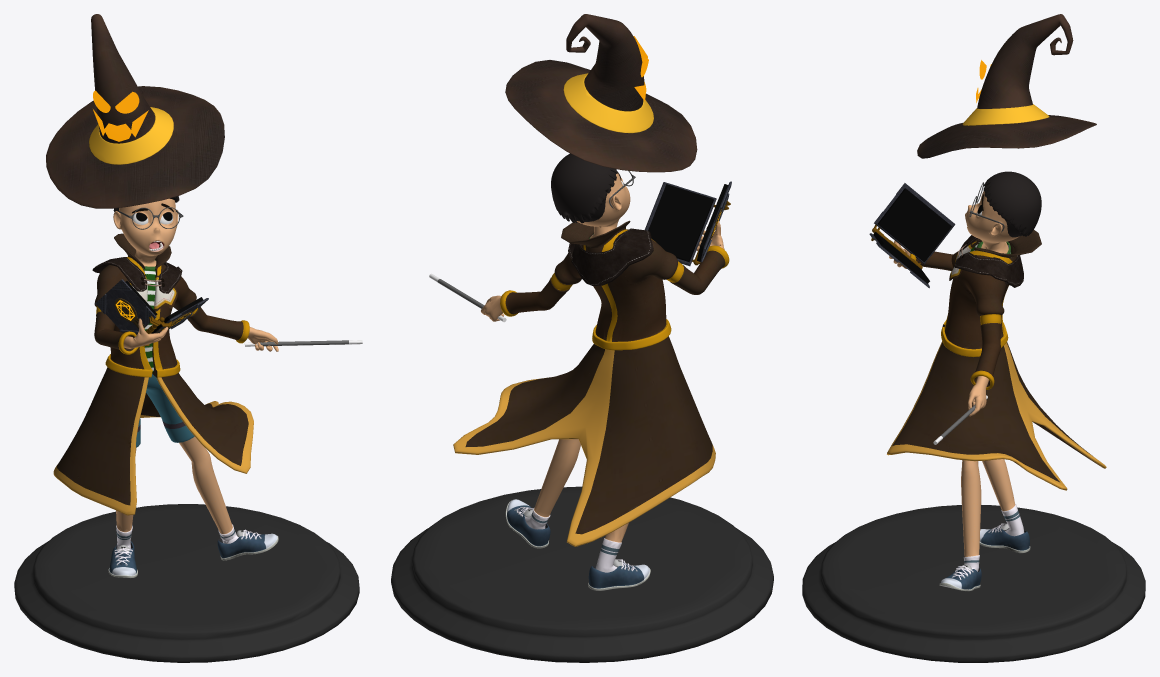
The model's file is wizard-transformed.glb.
The picture shows the model from 3 angles, left to right: view 1: azimuth 30°, elevation 25°; view 2: azimuth 150°, elevation 25°; view 3: azimuth 270°, elevation 25°; orthographic projection. The views are drawn at different scales.
Visible parts, largest first — view 1: WandpCylinder1_Wandq_0, Evil_Hathattty_mesh_Evil_HatBLN_Hat_0, lower_coat_mesh_FK_BLN_Lower_coat_0, Upper_coat_mesh_BLN_upper_coat_0, R_shoe_mesh_BLN_shoes_0, Evil_HatpPlane1_Evil_HatsolidShader_0, Chest_piece_mesh_BLN_chest_piece_0, pants_mesh_BLN_Pants_0, BookpolySurface2_BookBLN_Book_covers_0, BookBook_corner_mesh4_Booklam_book_corners_0, Coat_collar_mesh_BLN_collar_piece_0, upper_body_mesh_BLN_shirt_0; view 2: WandpCylinder1_Wandq_0, lower_coat_mesh_FK_BLN_Lower_coat_0, Evil_Hathattty_mesh_Evil_HatBLN_Hat_0, Upper_coat_mesh_BLN_upper_coat_0, BookpolySurface5_Bookblinn1_0, Chest_piece_mesh_BLN_chest_piece_0, R_shoe_mesh_BLN_shoes_0, Coat_collar_mesh_BLN_collar_piece_0, BookpolySurface2_BookBLN_Book_covers_0; view 3: WandpCylinder1_Wandq_0, lower_coat_mesh_FK_BLN_Lower_coat_0, Evil_Hathattty_mesh_Evil_HatBLN_Hat_0, Upper_coat_mesh_BLN_upper_coat_0, BookpolySurface5_Bookblinn1_0, R_shoe_mesh_BLN_shoes_0, Chest_piece_mesh_BLN_chest_piece_0, BookpolySurface2_BookBLN_Book_covers_0, Coat_collar_mesh_BLN_collar_piece_0.
Boxes of the visible parts, left/top/right/bottom form: WandpCylinder1_Wandq_0: left=14, top=196, right=362, bottom=662; Evil_Hathattty_mesh_Evil_HatBLN_Hat_0: left=46, top=14, right=224, bottom=208; lower_coat_mesh_FK_BLN_Lower_coat_0: left=53, top=367, right=253, bottom=515; Upper_coat_mesh_BLN_upper_coat_0: left=94, top=257, right=249, bottom=377; R_shoe_mesh_BLN_shoes_0: left=108, top=532, right=278, bottom=578; Evil_HatpPlane1_Evil_HatsolidShader_0: left=93, top=90, right=148, bottom=141; Chest_piece_mesh_BLN_chest_piece_0: left=92, top=257, right=182, bottom=293; pants_mesh_BLN_Pants_0: left=136, top=374, right=194, bottom=447; BookpolySurface2_BookBLN_Book_covers_0: left=106, top=280, right=207, bottom=333; BookBook_corner_mesh4_Booklam_book_corners_0: left=95, top=279, right=208, bottom=334; Coat_collar_mesh_BLN_collar_piece_0: left=114, top=233, right=171, bottom=270; upper_body_mesh_BLN_shirt_0: left=144, top=269, right=155, bottom=373; WandpCylinder1_Wandq_0: left=391, top=153, right=773, bottom=662; lower_coat_mesh_FK_BLN_Lower_coat_0: left=453, top=336, right=715, bottom=546; Evil_Hathattty_mesh_Evil_HatBLN_Hat_0: left=505, top=14, right=697, bottom=172; Upper_coat_mesh_BLN_upper_coat_0: left=500, top=229, right=729, bottom=350; BookpolySurface5_Bookblinn1_0: left=648, top=184, right=728, bottom=262; Chest_piece_mesh_BLN_chest_piece_0: left=568, top=228, right=653, bottom=286; R_shoe_mesh_BLN_shoes_0: left=505, top=499, right=650, bottom=590; Coat_collar_mesh_BLN_collar_piece_0: left=561, top=220, right=630, bottom=247; BookpolySurface2_BookBLN_Book_covers_0: left=644, top=181, right=730, bottom=265; WandpCylinder1_Wandq_0: left=802, top=171, right=1145, bottom=662; lower_coat_mesh_FK_BLN_Lower_coat_0: left=887, top=341, right=1106, bottom=490; Evil_Hathattty_mesh_Evil_HatBLN_Hat_0: left=917, top=14, right=1096, bottom=158; Upper_coat_mesh_BLN_upper_coat_0: left=910, top=239, right=1017, bottom=389; BookpolySurface5_Bookblinn1_0: left=873, top=188, right=951, bottom=283; R_shoe_mesh_BLN_shoes_0: left=939, top=528, right=1030, bottom=591; Chest_piece_mesh_BLN_chest_piece_0: left=954, top=235, right=1023, bottom=287; BookpolySurface2_BookBLN_Book_covers_0: left=870, top=183, right=955, bottom=286; Coat_collar_mesh_BLN_collar_piece_0: left=974, top=230, right=1041, bottom=257.
Bounding box in the file's own units: 42.53 × 73.92 × 41.48.
Materials: 20 (16 with a texture image).
